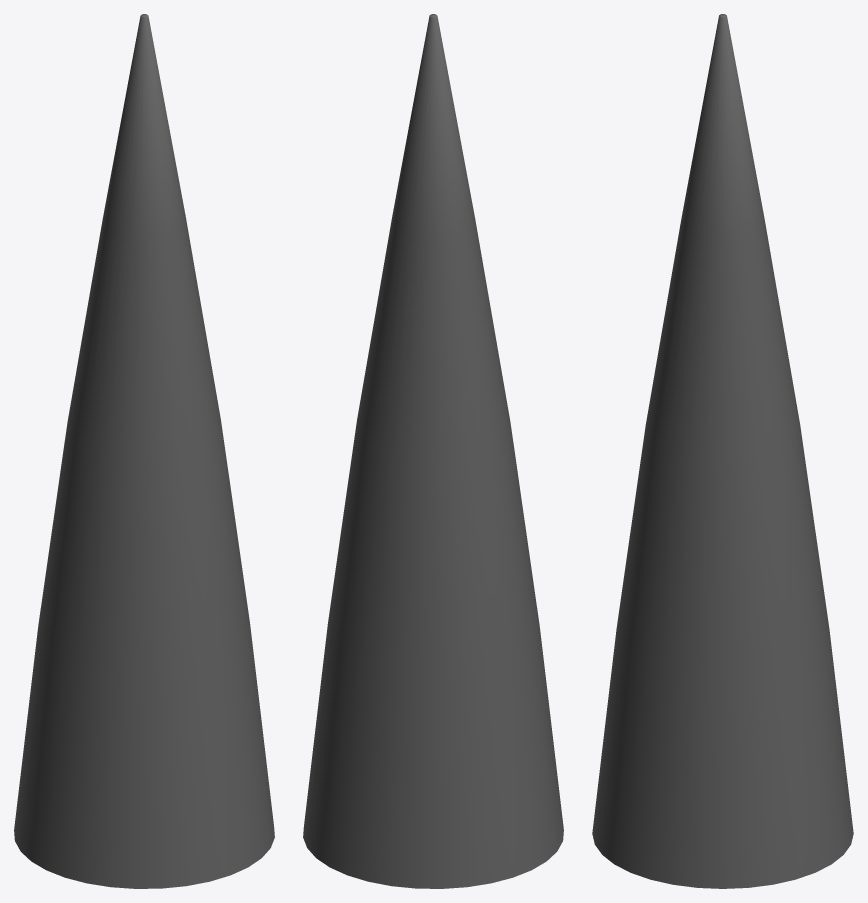
The model's file is BigCone.fbx.
3 renders of one model, left to right at view 1: azimuth 30°, elevation 25°; view 2: azimuth 150°, elevation 25°; view 3: azimuth 270°, elevation 25°, orthographic.
Parts seen in each view (by area): view 1: Cylinder; view 2: Cylinder; view 3: Cylinder.
Part boxes in pixels (bbox=[...]): Cylinder: bbox=[14, 14, 274, 888]; Cylinder: bbox=[303, 14, 563, 888]; Cylinder: bbox=[592, 14, 853, 888].
Bounding box in the file's own units: 116 × 400 × 116.
